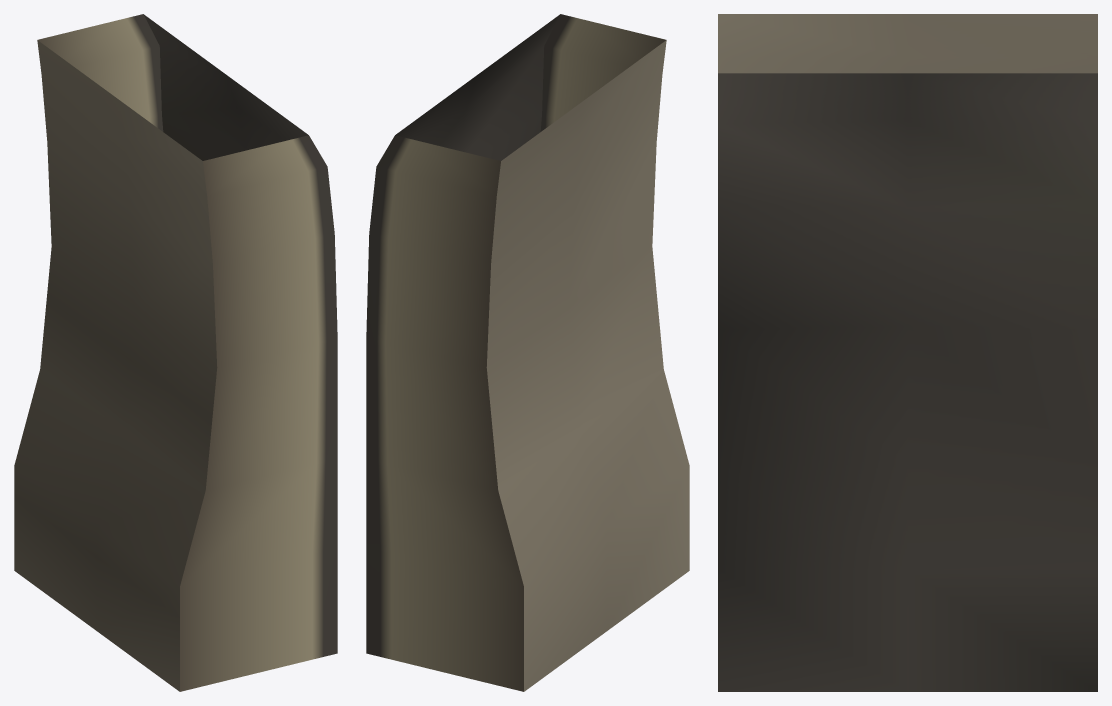
The model's file is log_tunnel_side.glb.
3 views of the same model, side by side, from view 1: azimuth 30°, elevation 25°; view 2: azimuth 150°, elevation 25°; view 3: azimuth 270°, elevation 25° (orthographic). The views are drawn at different scales.
Visible parts, largest first — view 1: log_tunnel_side; view 2: log_tunnel_side; view 3: log_tunnel_side.
Boxes of the visible parts, left/top/right/bottom form: log_tunnel_side: left=14, top=14, right=337, bottom=691; log_tunnel_side: left=366, top=14, right=689, bottom=691; log_tunnel_side: left=718, top=14, right=1097, bottom=691.
Size of the model in its own units: 0.55 by 1.75 by 1.
